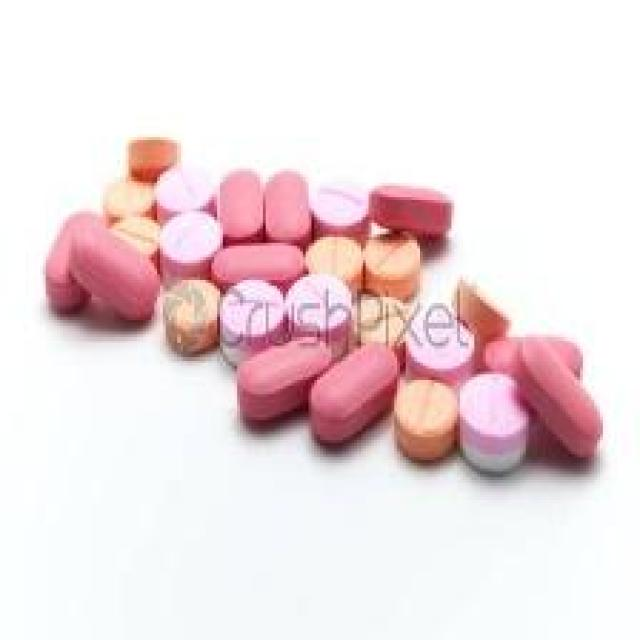Medicine: (32, 122, 640, 526)
